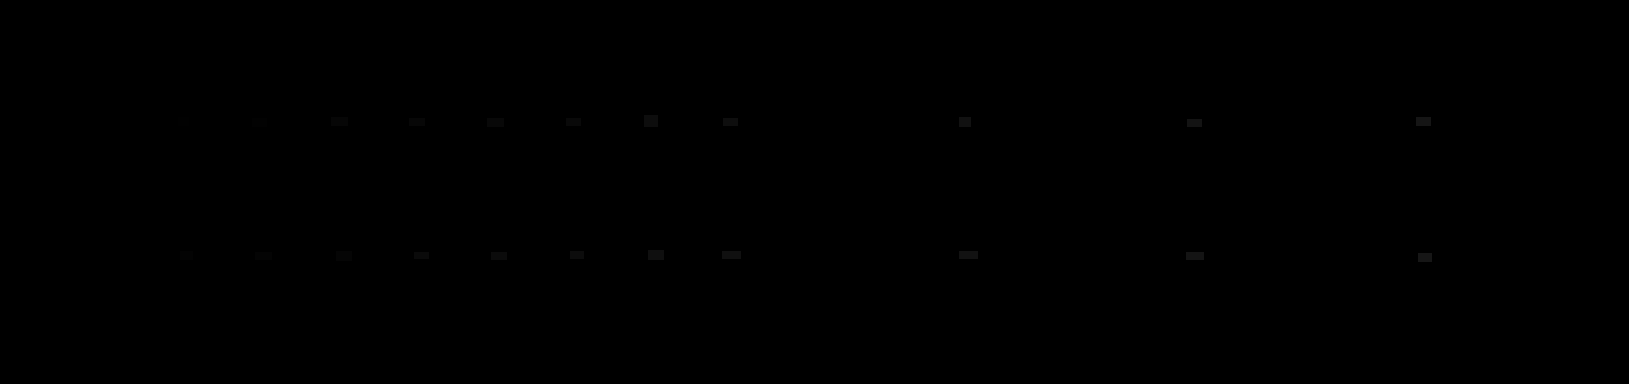light: (648, 250, 664, 260), (336, 251, 352, 260), (722, 251, 741, 259), (959, 251, 978, 259), (644, 115, 658, 127), (255, 252, 272, 260), (1186, 252, 1204, 260), (331, 117, 348, 126), (487, 118, 504, 127), (491, 252, 507, 260), (180, 251, 193, 260), (252, 118, 267, 127), (1416, 117, 1431, 126), (959, 117, 971, 127), (409, 118, 425, 126), (413, 252, 429, 259), (570, 251, 584, 259), (1418, 253, 1432, 262), (566, 118, 581, 126), (723, 118, 738, 126), (1187, 119, 1202, 127), (178, 117, 189, 126)
